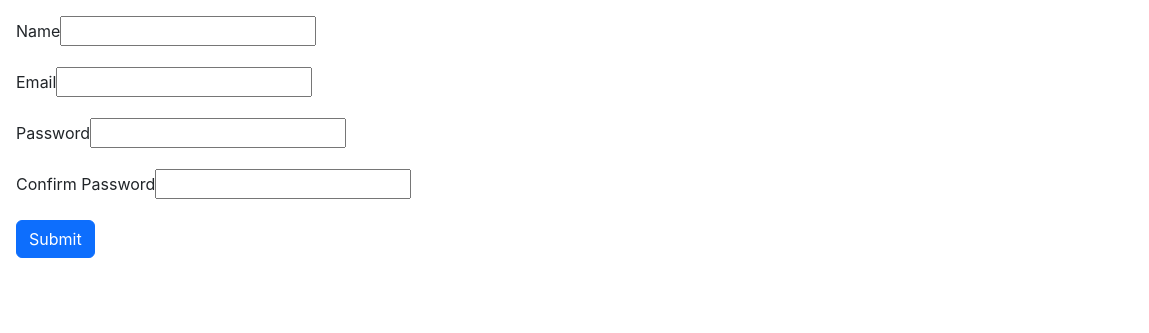
Test: App › submit button & error handling › should display correct error message when input email is valid && password is not valid
Step 1. Type "john.doe@example.com" into the field labelled "Email" → (184, 82), box top-left (56, 67), bottom-right (312, 97)
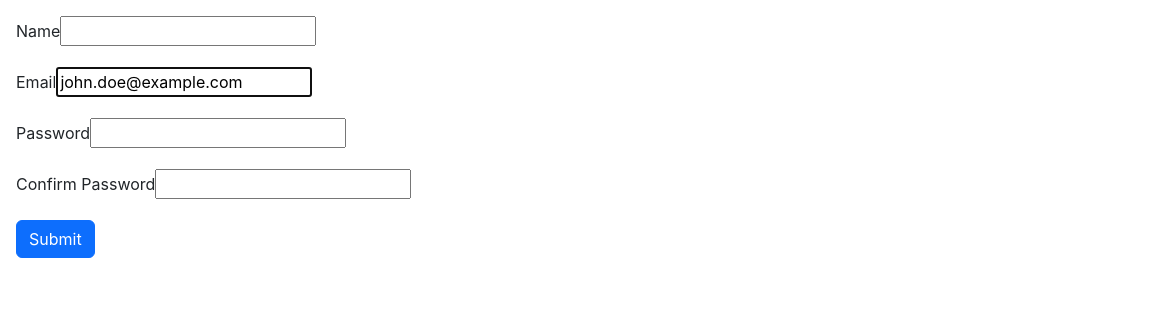
Step 2. Type "123456" into the password field labelled "Password" → (218, 133), box top-left (90, 118), bottom-right (346, 148)
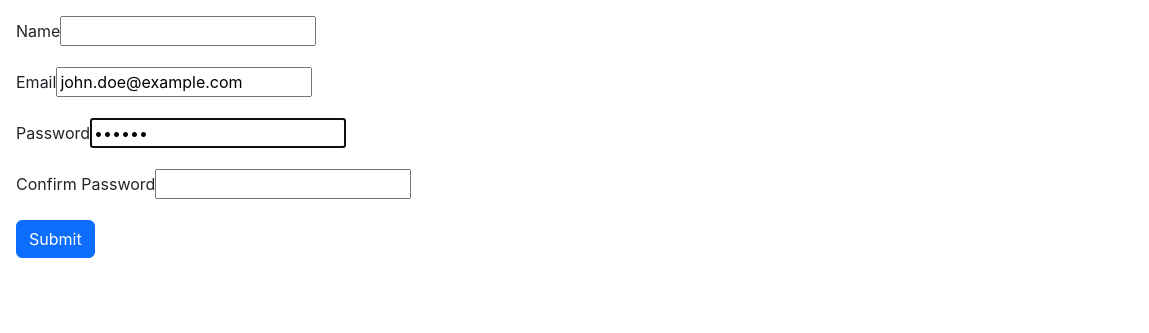
Step 3. Click the button → (55, 239), box top-left (16, 220), bottom-right (95, 258)
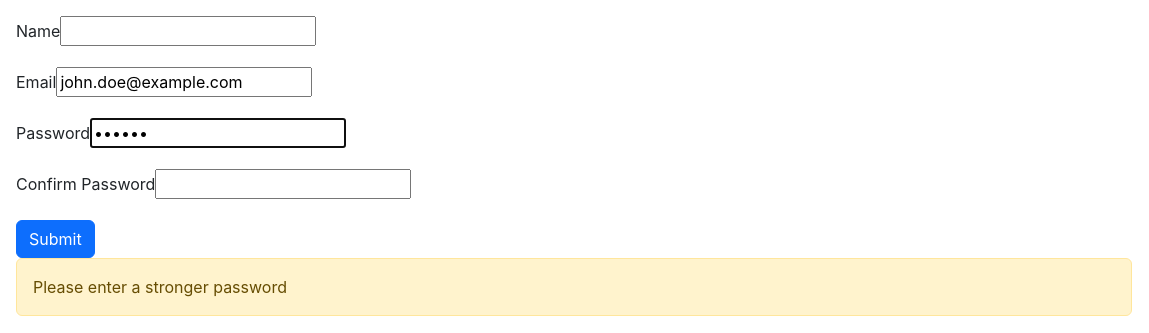
Result: the text "Please enter a stronger password" is shown at top-left (16, 258), bottom-right (1132, 316)
